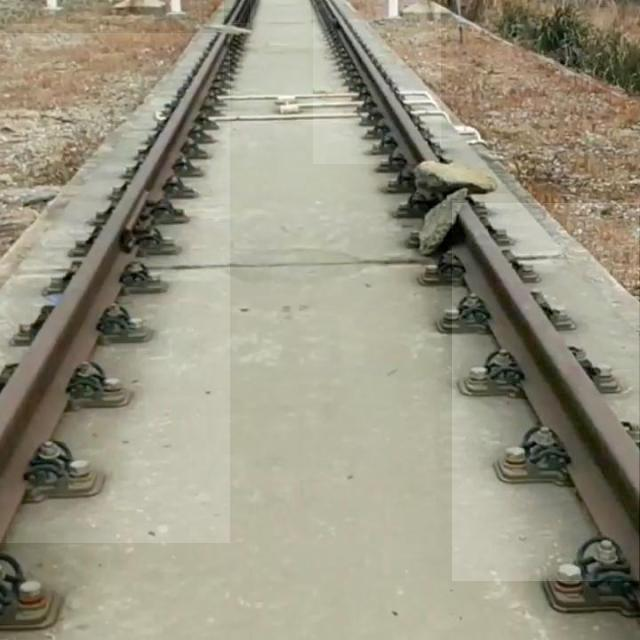rail: (2, 34, 231, 544), (454, 204, 640, 582), (314, 1, 442, 165), (225, 1, 251, 24)
